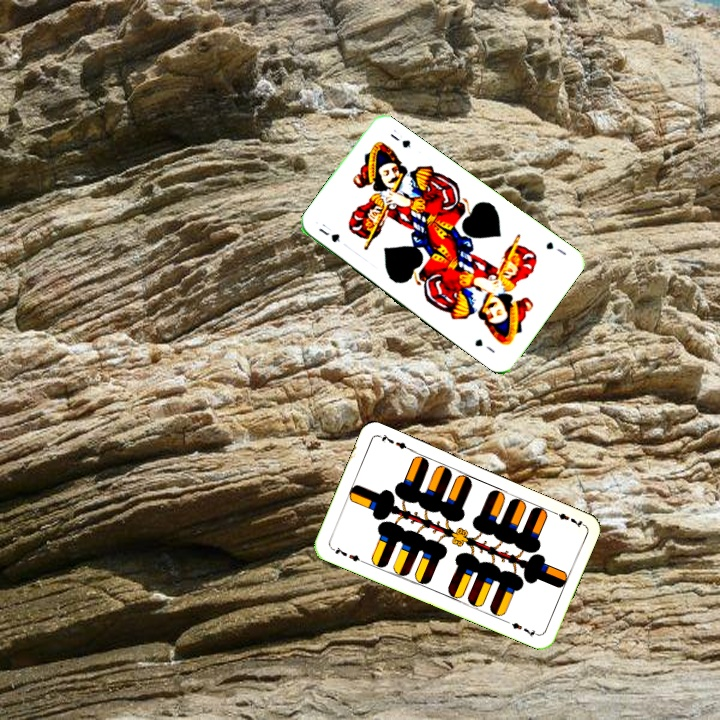E7: (547, 506, 586, 530), (327, 543, 366, 565)
GU: (315, 224, 343, 245), (542, 237, 569, 258)
